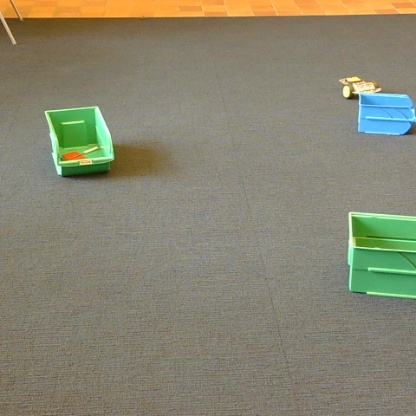robot: (340, 76, 380, 98)
